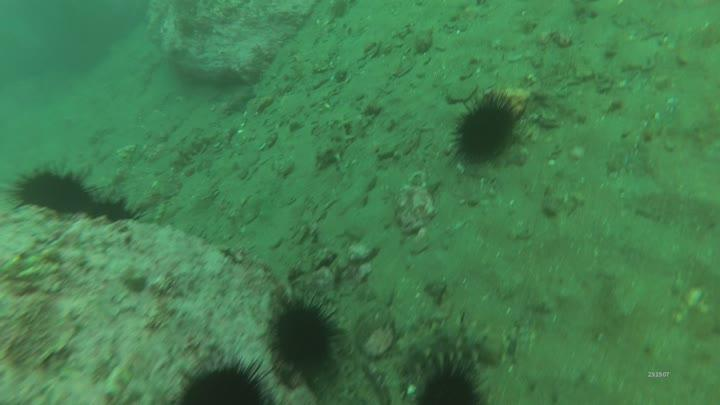urchin: (448, 87, 522, 166), (270, 291, 340, 371), (406, 352, 486, 405), (16, 164, 91, 216), (179, 363, 271, 405)
